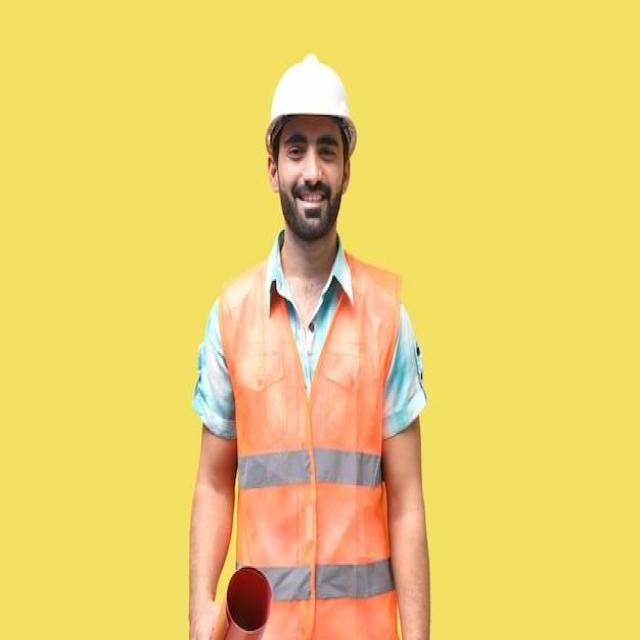Reflective-Jacket: (217, 255, 406, 624)
Safety-Helmet: (261, 51, 362, 146)
